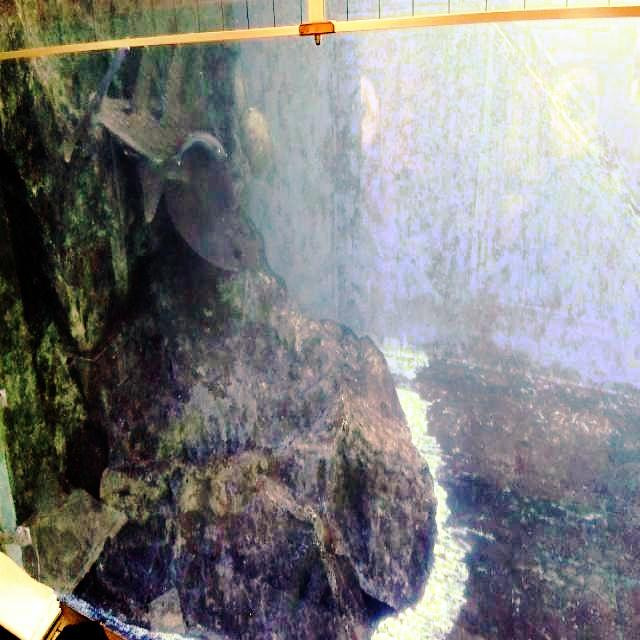Mud skate: (61, 37, 267, 290)
